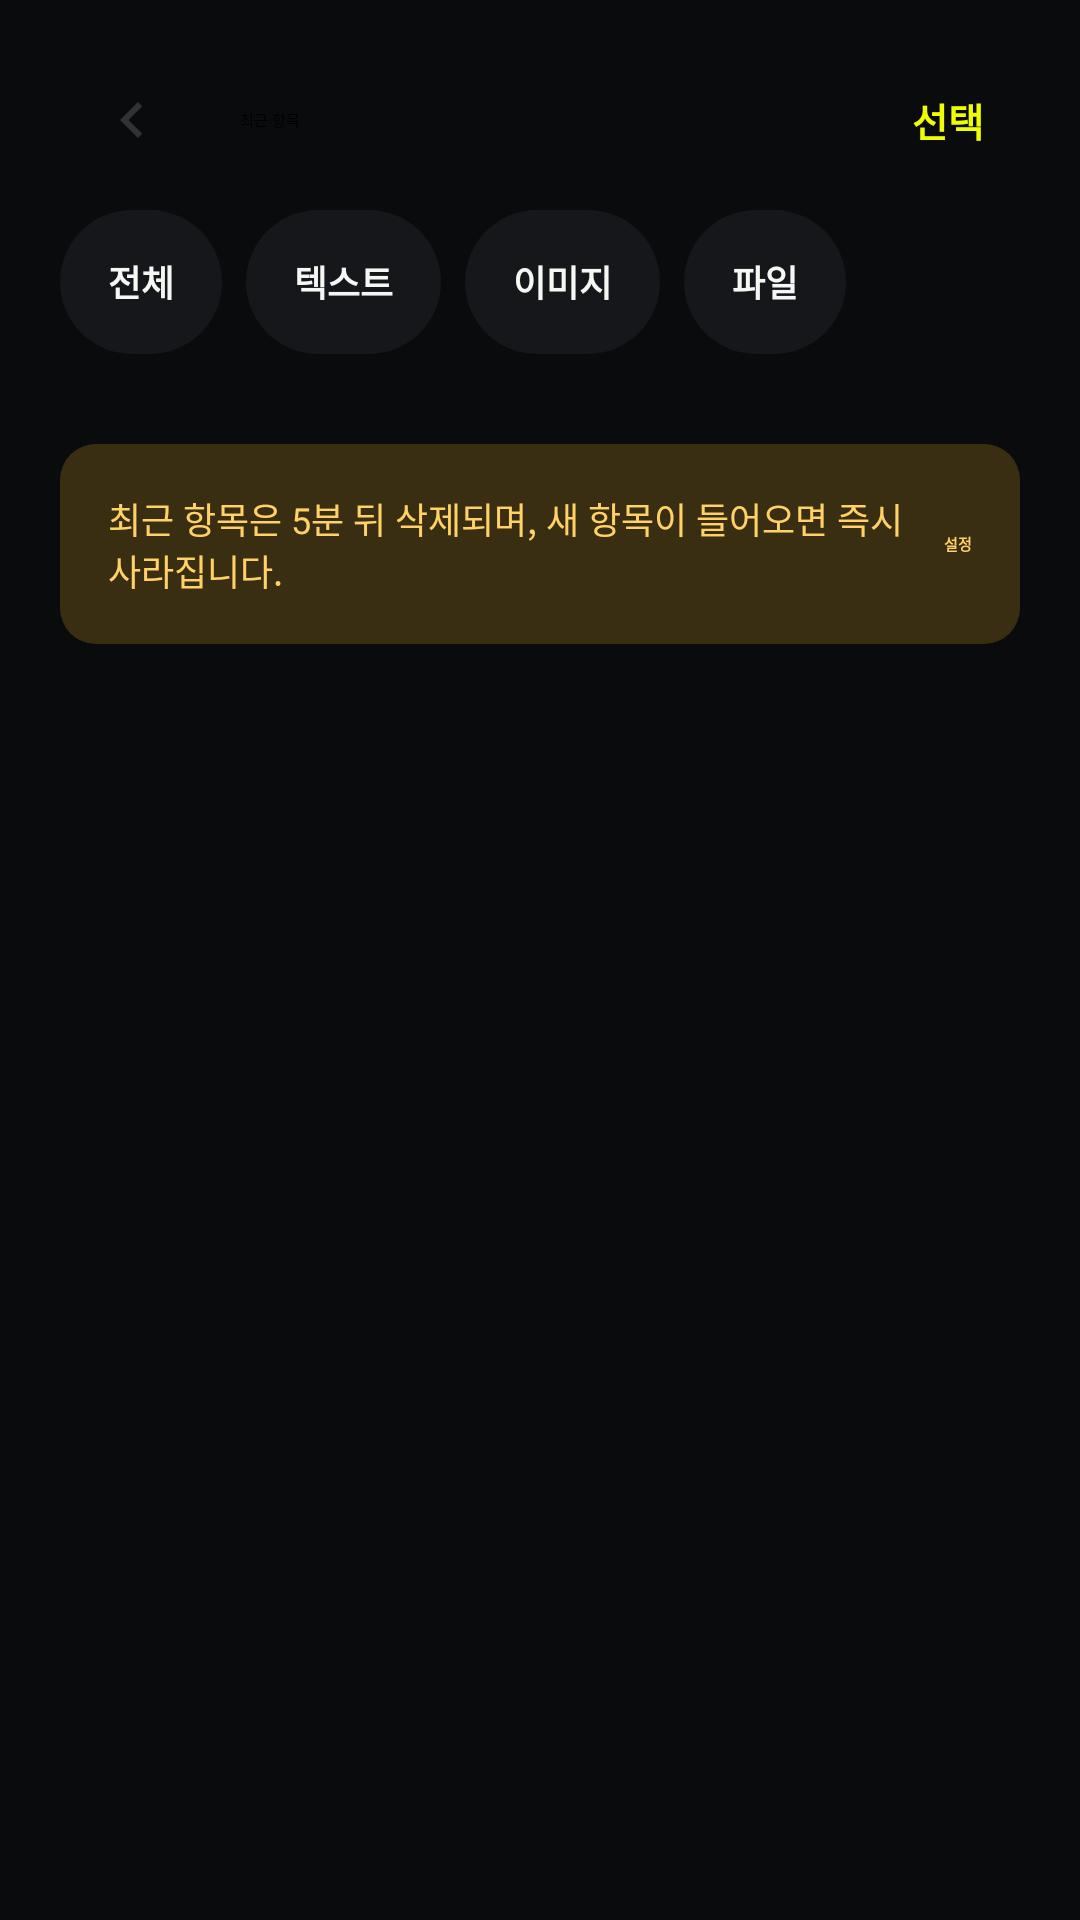

Where to tap for icons on this 1080px×1920px app screen, as (x=x, y=y):
뒤로가기: (x=131, y=120)
